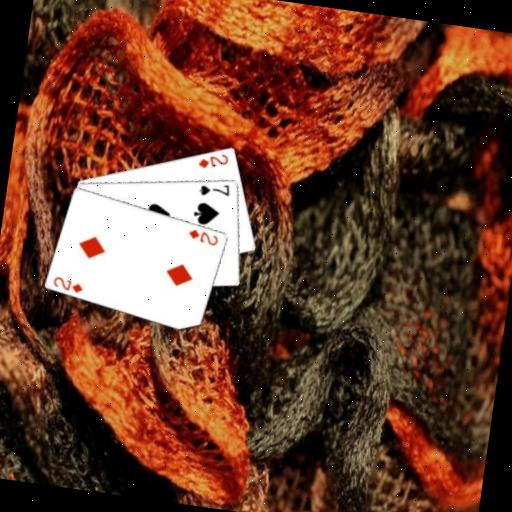2D: (195, 147, 232, 173), (185, 226, 221, 249), (50, 272, 86, 295)
7S: (196, 177, 233, 200)
